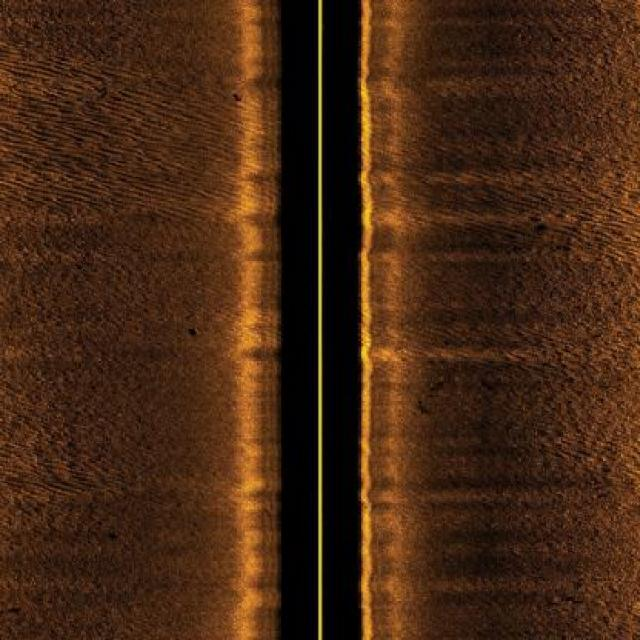mine: (184, 327, 202, 338)
